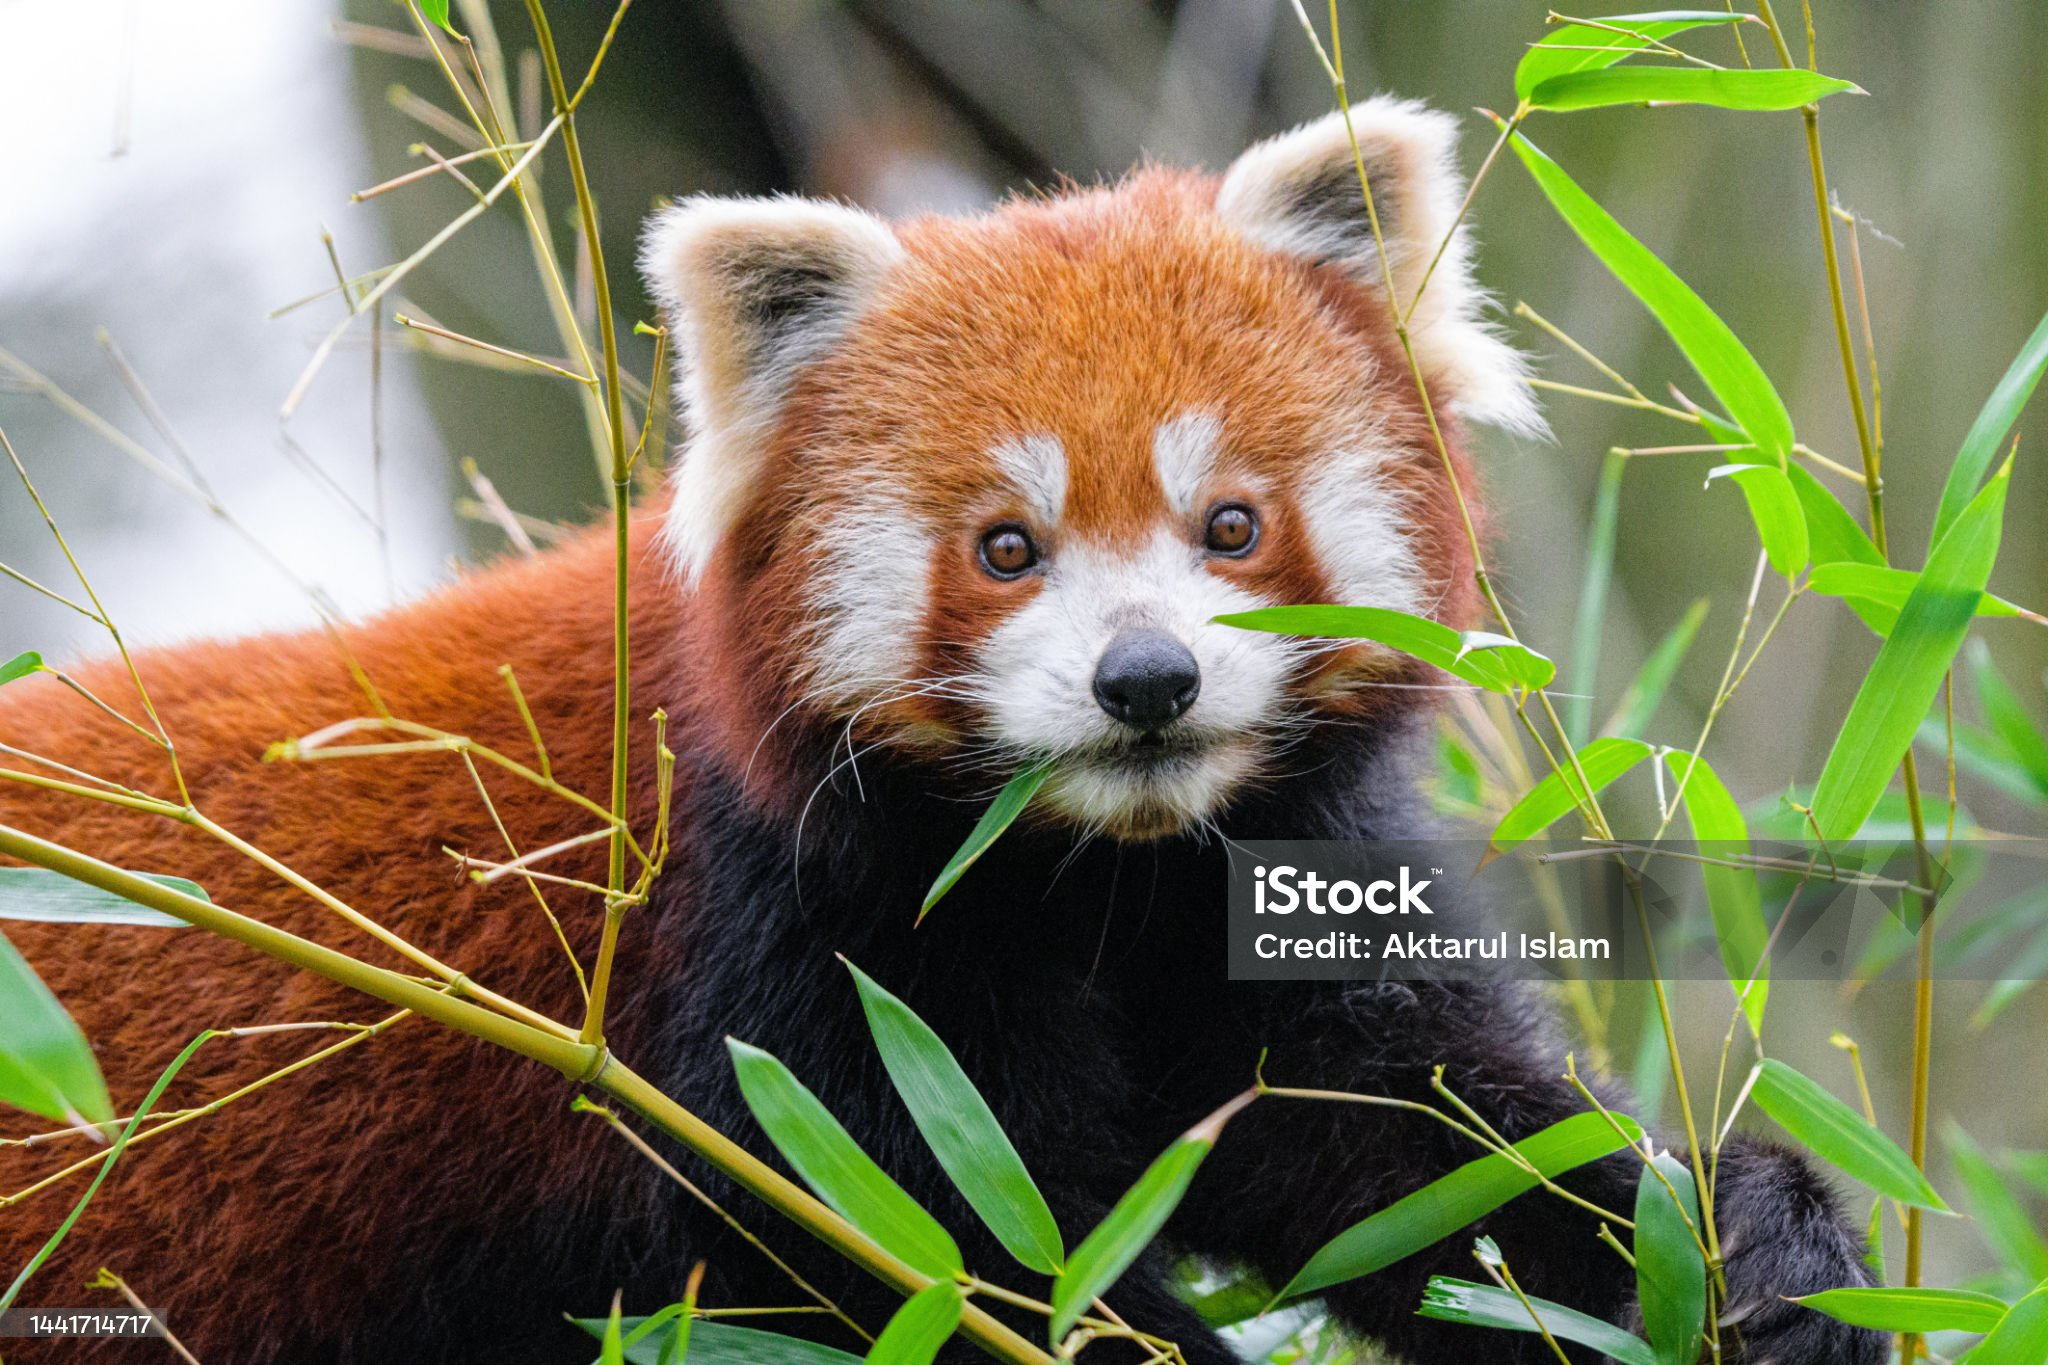Red panda: (595, 102, 1523, 832)
